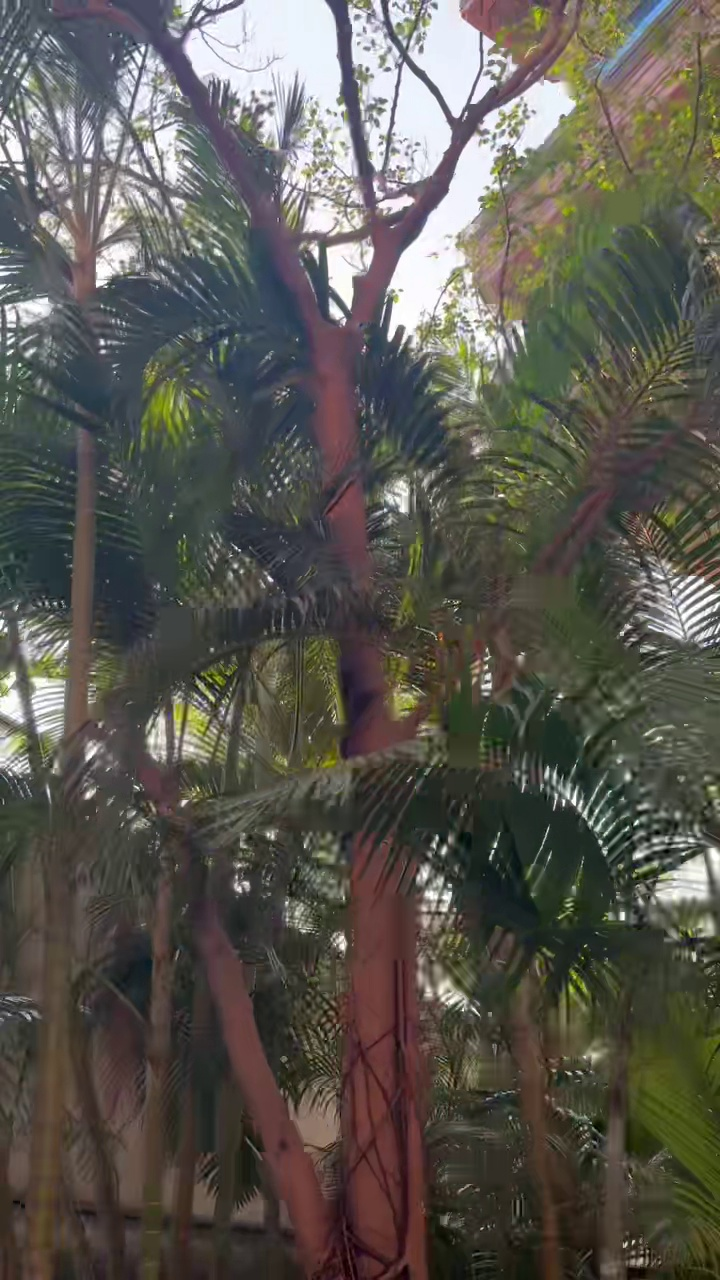Ficus benjamina: (123, 0, 564, 1279)
